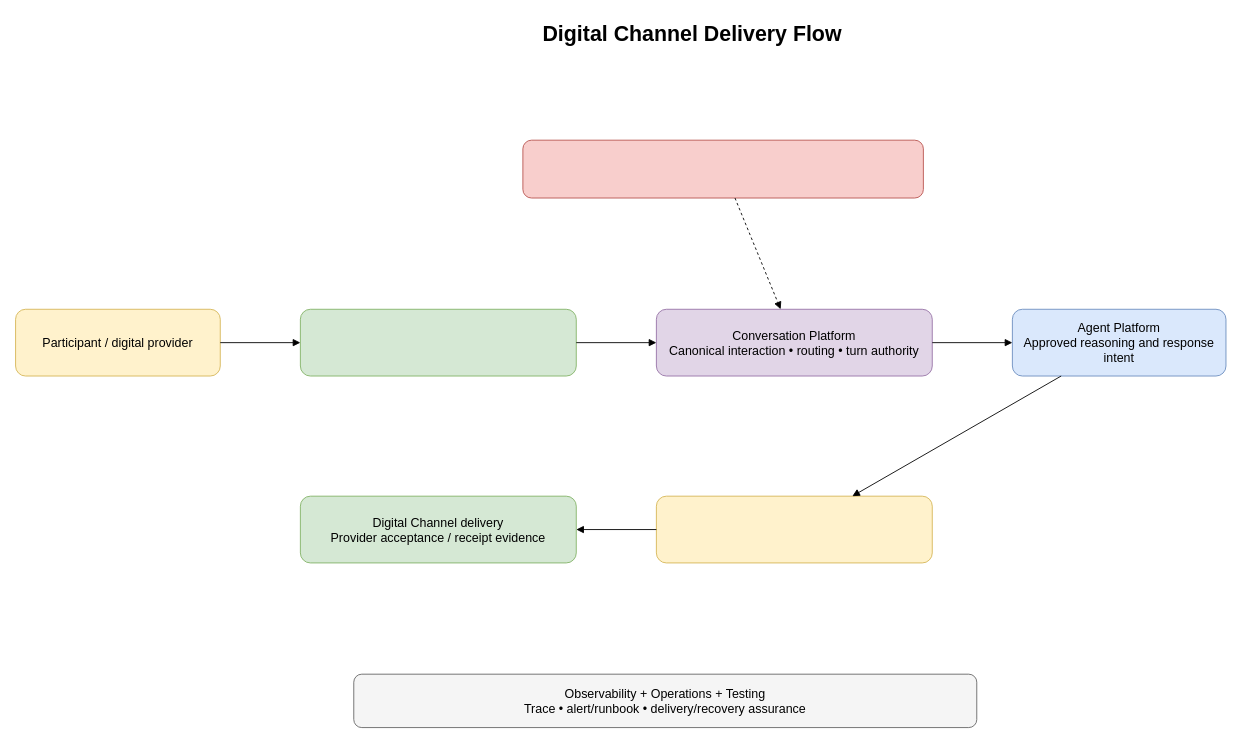
Image size: 1242x743. Some labels were removed from this diagram. The box of each missing label's shape, as (x1, y1, x2, y2) in pixels:
Conversation output request Authorized channel and bounded output reference: (655, 495, 932, 563)
Digital Channel Platform Validate • consent • normalize • idempotency: (299, 308, 576, 376)
Security + Foundation Trusted identity • tenant • authorization: (522, 139, 923, 198)
